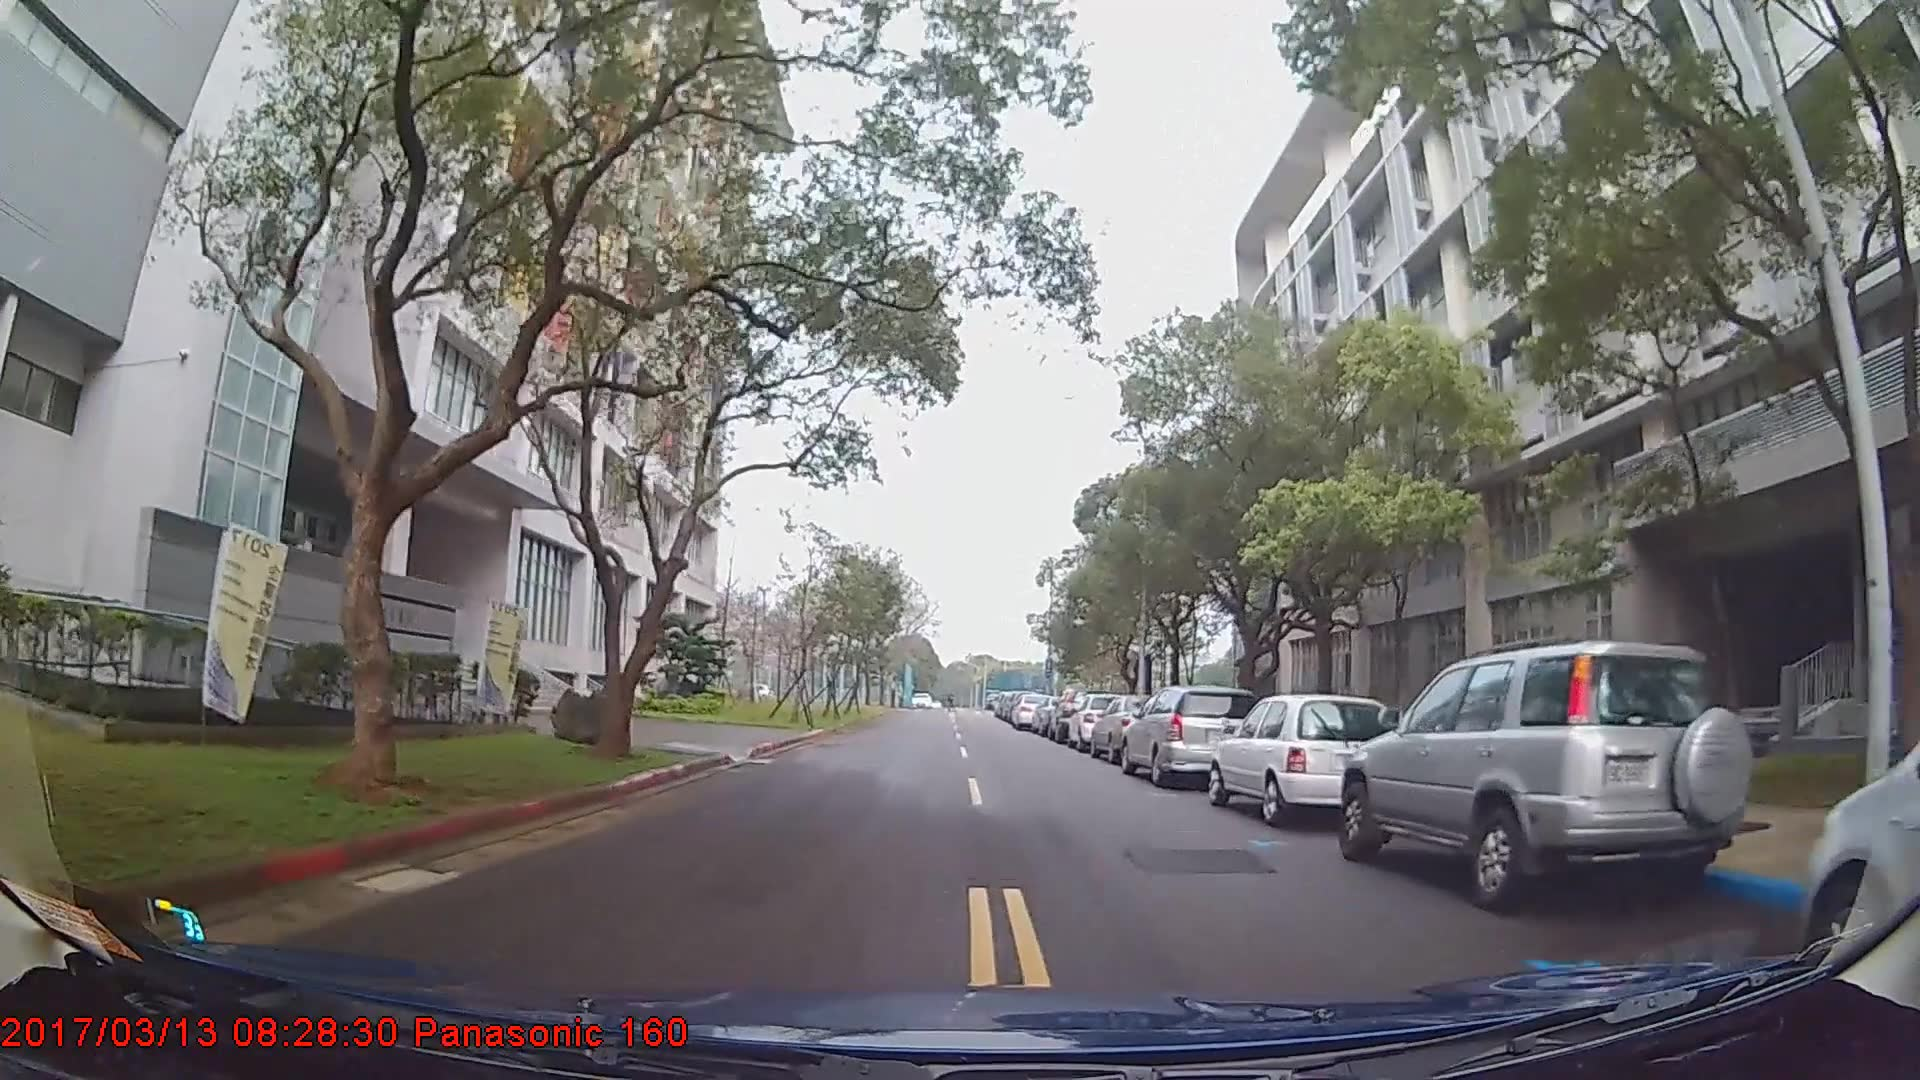vehicle: (1337, 638, 1756, 914), (1208, 694, 1400, 828), (1116, 683, 1261, 786), (1007, 690, 1052, 731)
